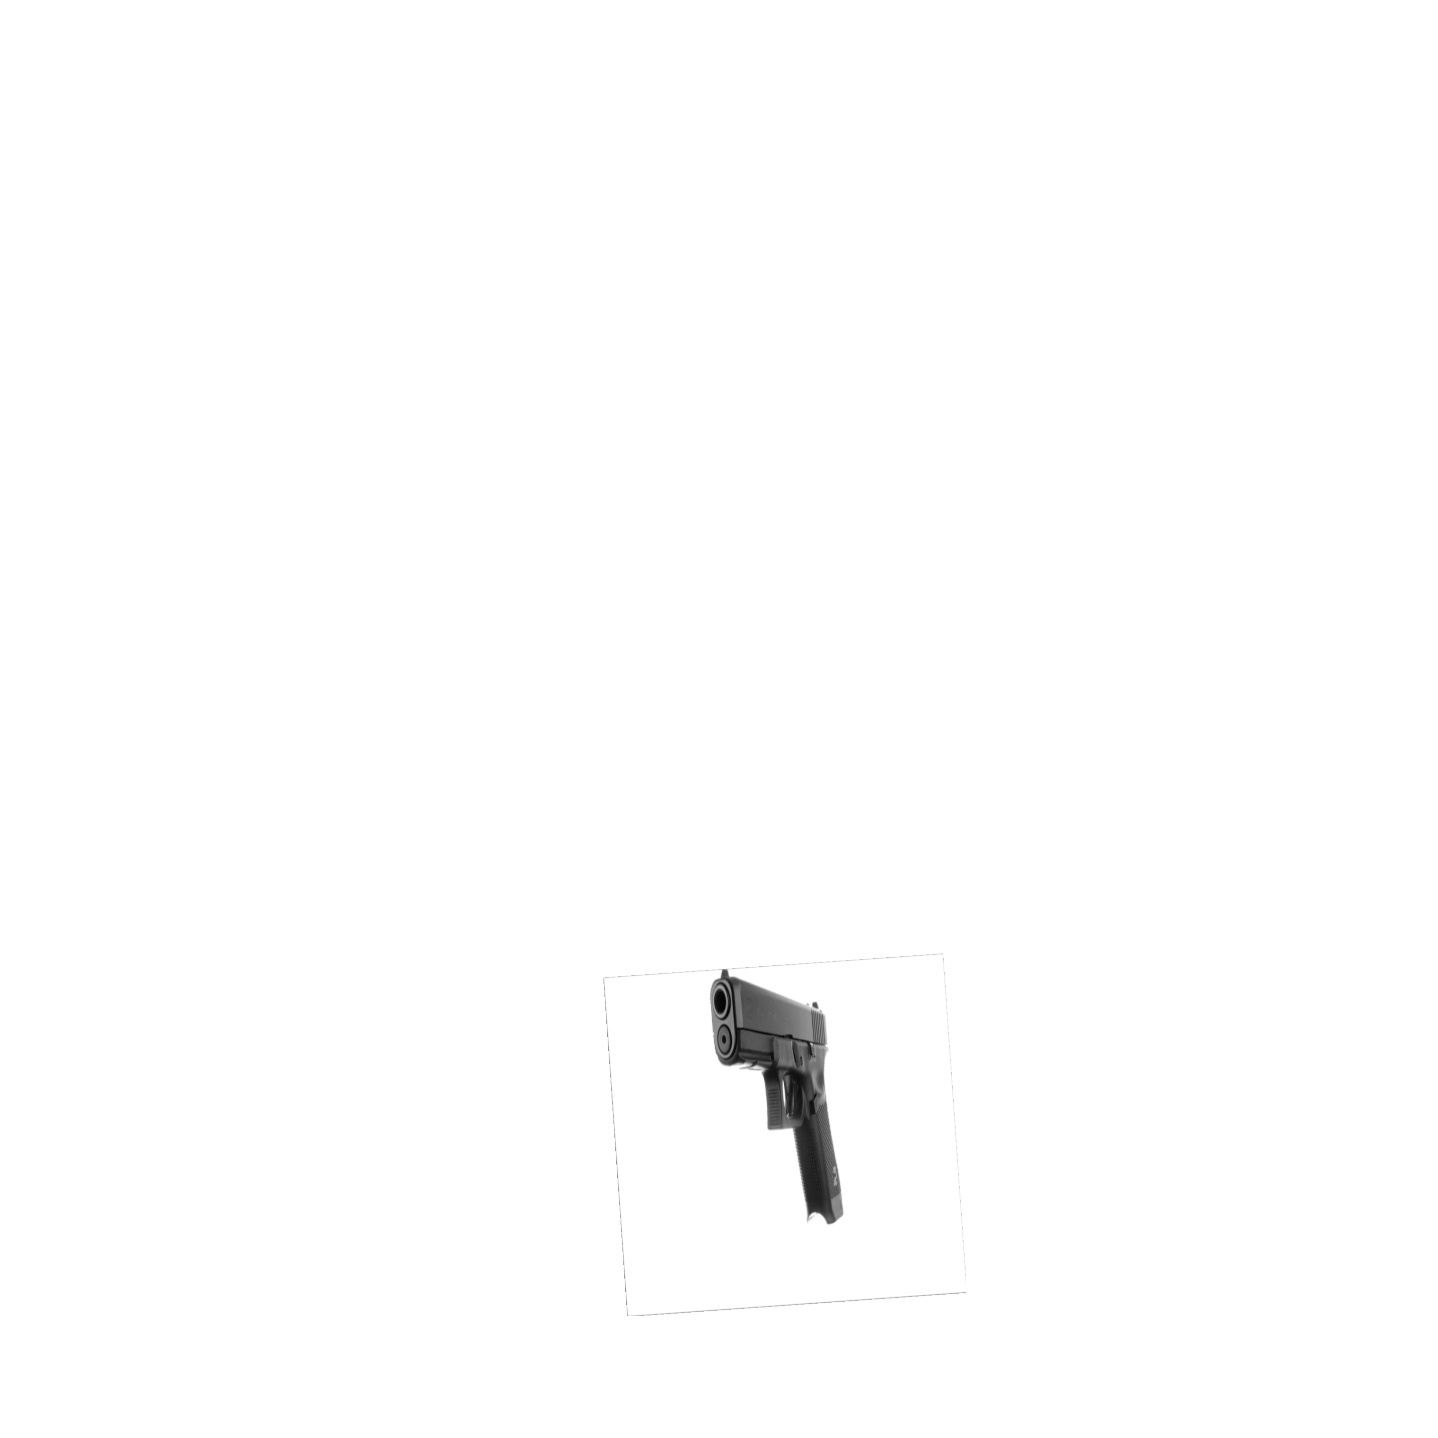gun: (705, 971, 859, 1226)
